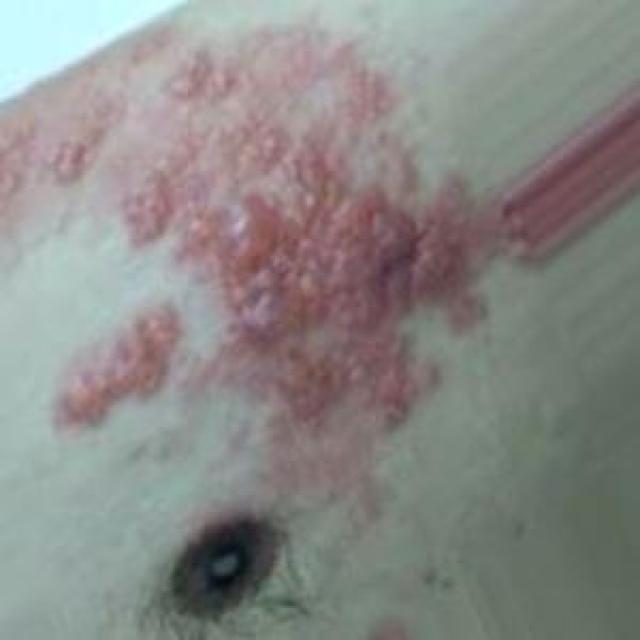Shingles: (128, 50, 486, 411), (63, 302, 176, 430), (41, 136, 99, 186)
